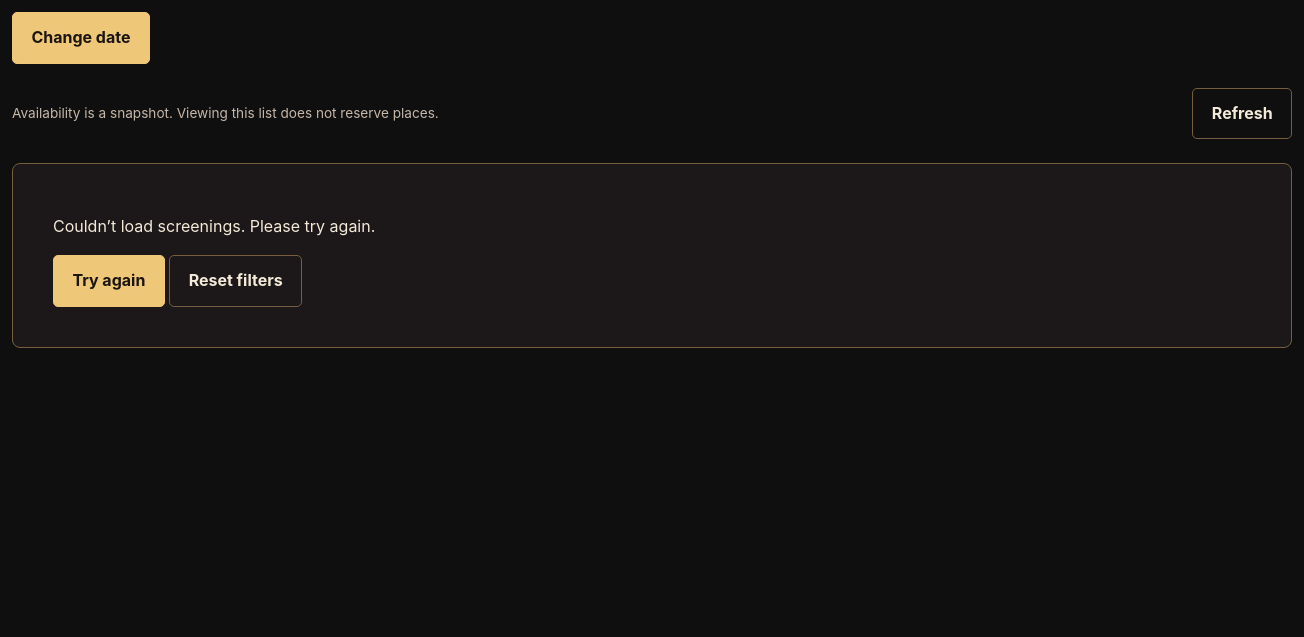
Test: error retry discards old failed response and handles empty results
The width and height of the screenshot is (1304, 637).
Click the button "Try again". click: [109, 281]
box: x1=53 y1=255 x2=165 y2=307
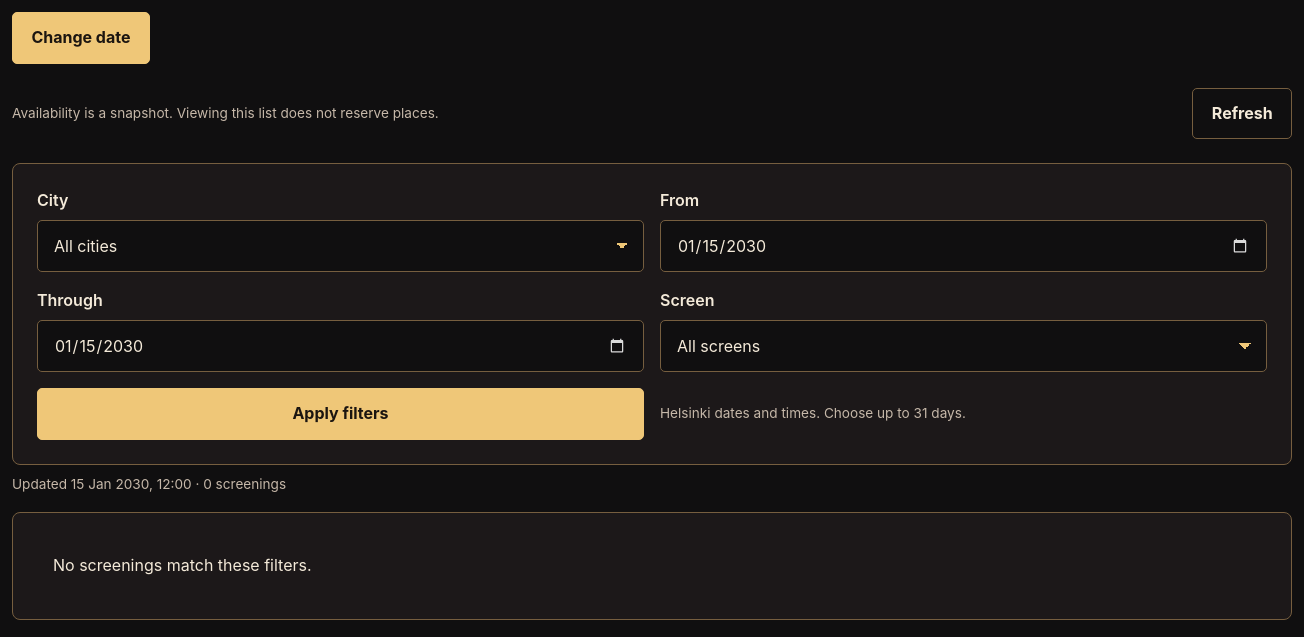
Now the text "No screenings match these filters." is shown, box x1=12 y1=512 x2=1292 y2=620
